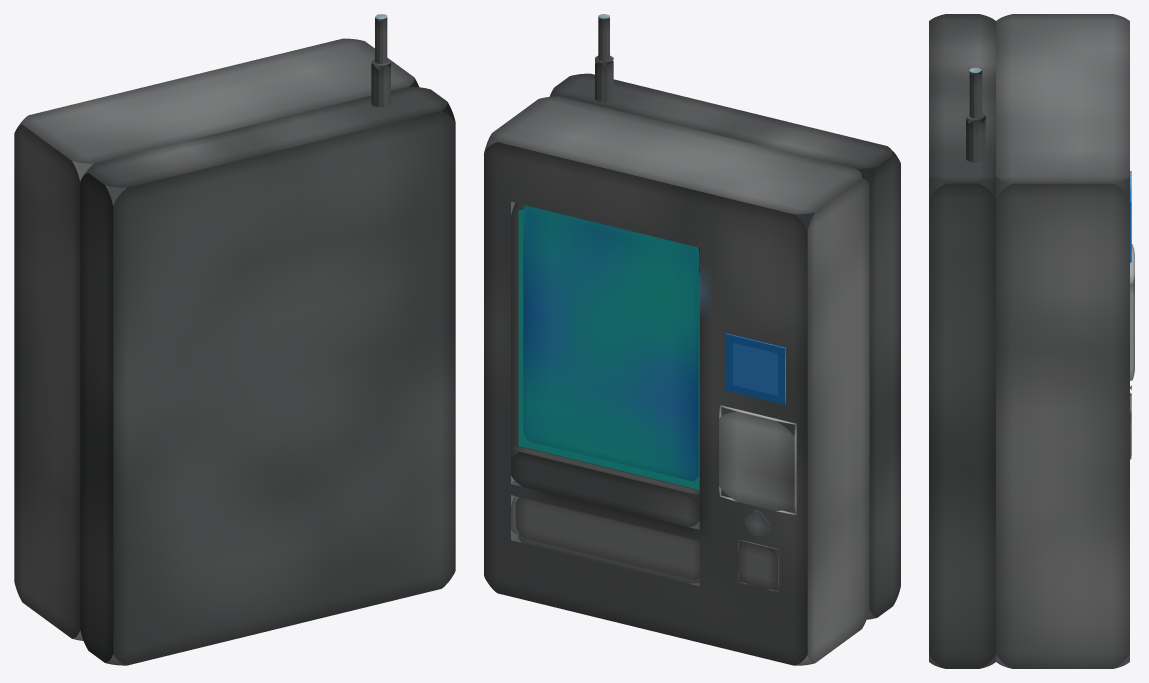
The model's file is avtomat2.fbx.
3 views of the same model, side by side, from view 1: azimuth 30°, elevation 25°; view 2: azimuth 150°, elevation 25°; view 3: azimuth 270°, elevation 25° (orthographic). The views are drawn at different scales.
Parts seen in each view (by area): view 1: cylinder; view 2: cylinder, cuboid, cuboid_1; view 3: cylinder.
Boxes of the visible parts, left/top/right/bottom form: cylinder: left=14, top=14, right=455, bottom=665; cylinder: left=484, top=14, right=900, bottom=665; cuboid: left=518, top=205, right=699, bottom=490; cuboid_1: left=726, top=333, right=785, bottom=404; cylinder: left=929, top=14, right=1134, bottom=668.
Size of the model in its own units: 37.5 by 59.06 by 19.22.
